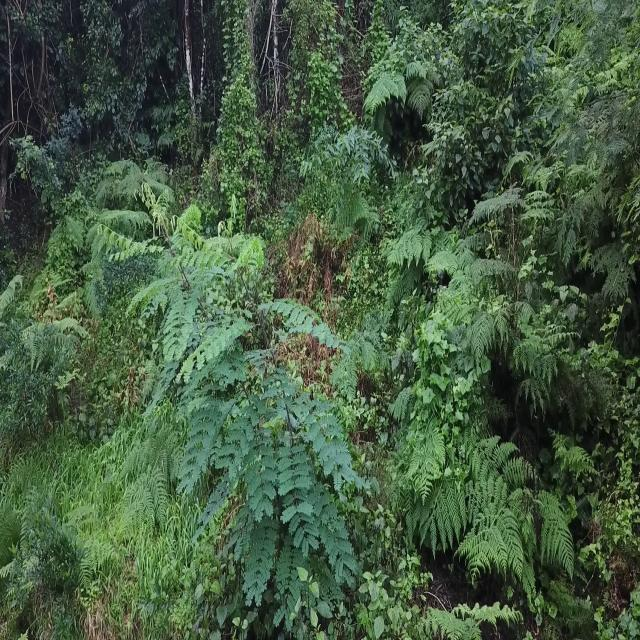Mysore-Thorn-Weed: (173, 222, 367, 640), (124, 168, 226, 356)
